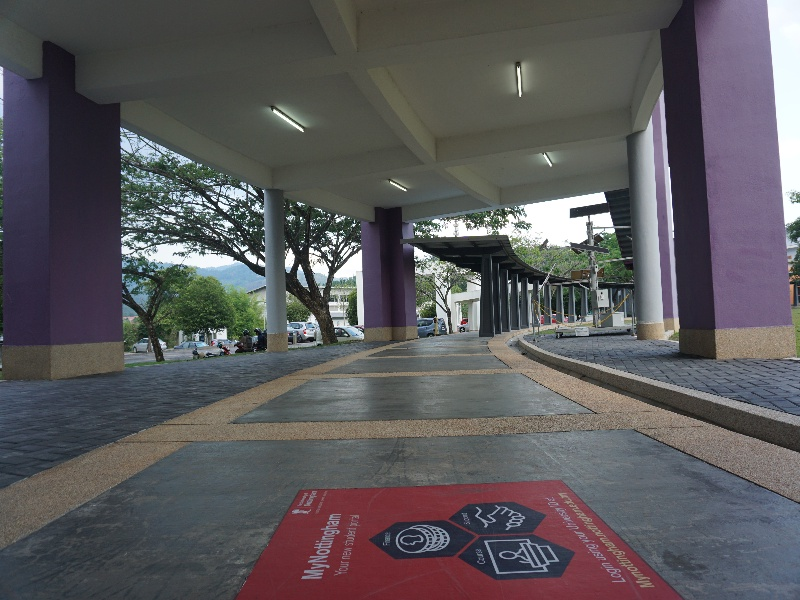Block D Pillar 4: (2, 6, 800, 484)
pillar: (663, 8, 796, 378), (1, 43, 121, 377), (351, 194, 421, 342), (256, 175, 306, 361)
